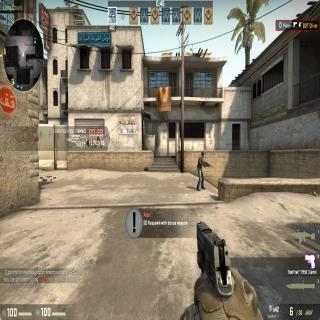T-Body: (197, 150, 205, 190)
T-Head: (201, 150, 204, 160)
